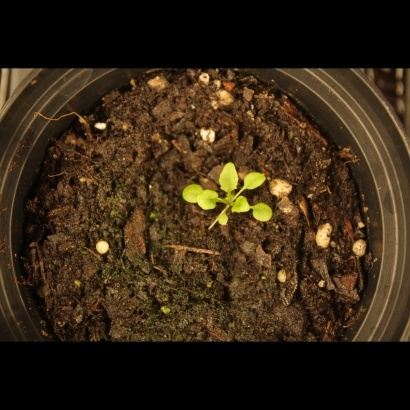leaf: (217, 157, 241, 195), (242, 167, 269, 194), (181, 182, 204, 205), (196, 190, 219, 213), (251, 201, 274, 224), (210, 212, 233, 235), (229, 195, 252, 218)
